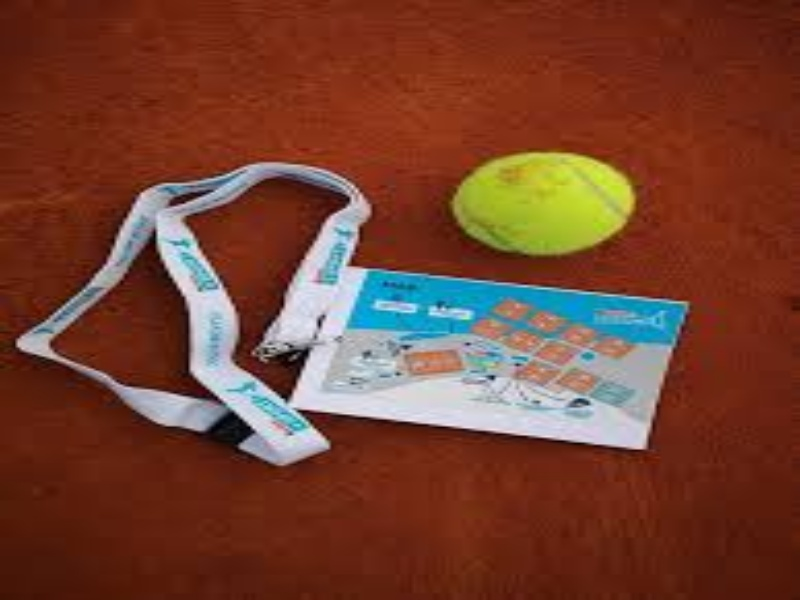tennis ball: (428, 133, 669, 255)
